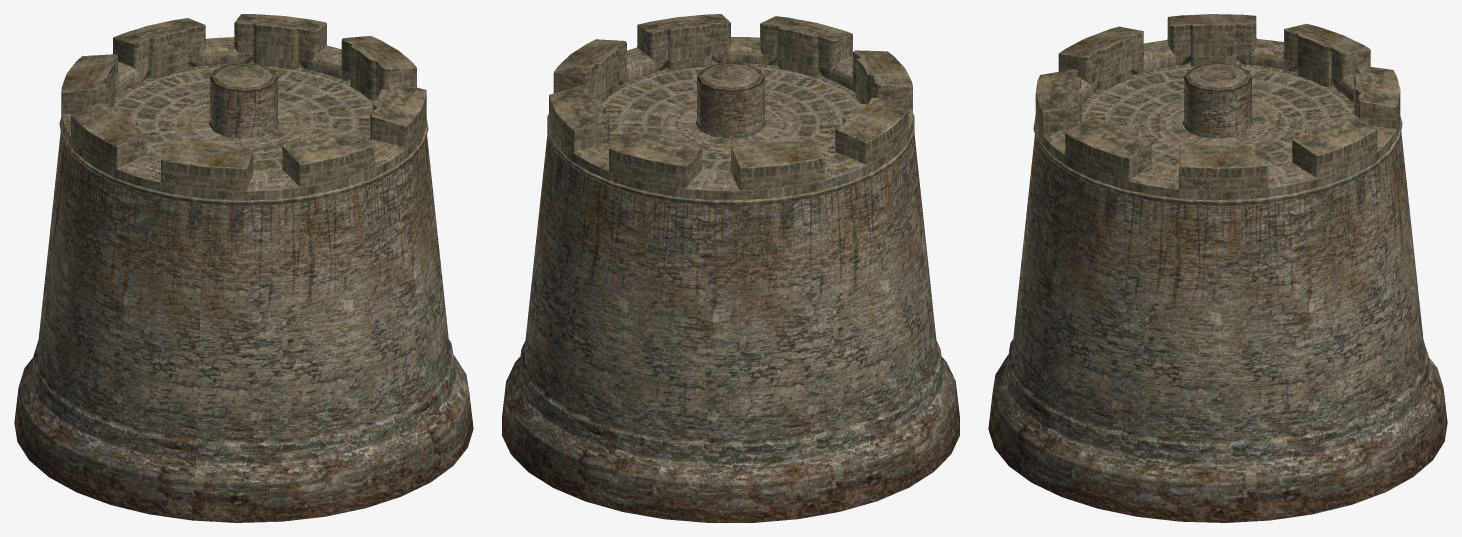
The model's file is tower_round.glb.
The picture shows the model from 3 angles, left to right: view 1: azimuth 30°, elevation 25°; view 2: azimuth 150°, elevation 25°; view 3: azimuth 270°, elevation 25°; orthographic projection.
Visible parts, largest first — view 1: modular_fort_01_tower_round_7666c1, modular_fort_01_tower_round_2eabce; view 2: modular_fort_01_tower_round_7666c1, modular_fort_01_tower_round_2eabce; view 3: modular_fort_01_tower_round_7666c1, modular_fort_01_tower_round_2eabce.
Boxes of the visible parts, left/top/right/bottom form: modular_fort_01_tower_round_7666c1: left=14, top=78, right=473, bottom=522; modular_fort_01_tower_round_2eabce: left=59, top=14, right=428, bottom=205; modular_fort_01_tower_round_7666c1: left=502, top=77, right=959, bottom=522; modular_fort_01_tower_round_2eabce: left=547, top=14, right=914, bottom=205; modular_fort_01_tower_round_7666c1: left=988, top=78, right=1447, bottom=522; modular_fort_01_tower_round_2eabce: left=1033, top=14, right=1402, bottom=205.
Bounding box in the file's own units: 15.84 × 13.5 × 15.84.
Materials: 2 (2 with a texture image).
